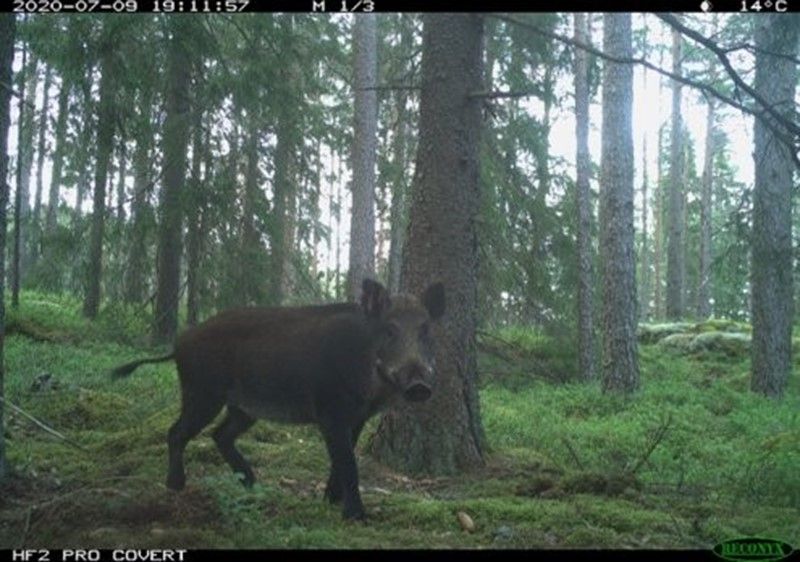pig: (102, 281, 468, 461), (145, 277, 146, 278)
